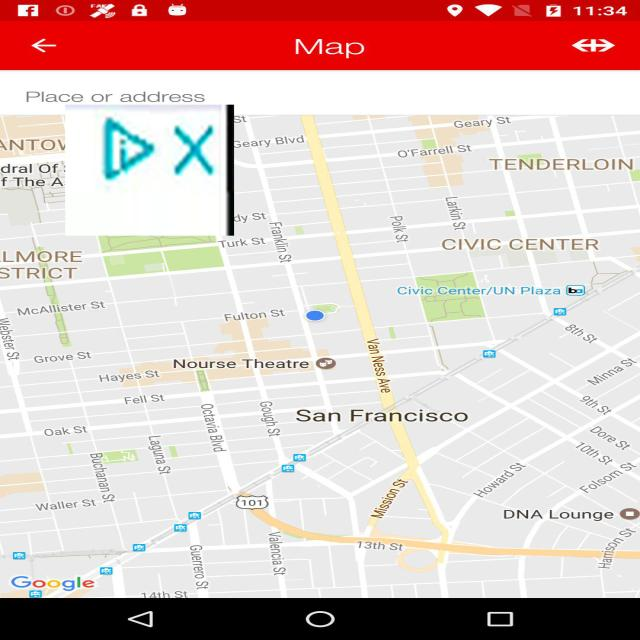sneaking: (65, 104, 234, 236)
